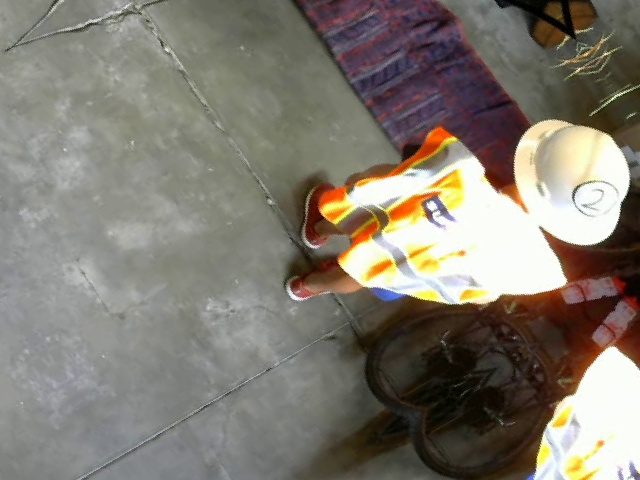two: (566, 170, 627, 223)
